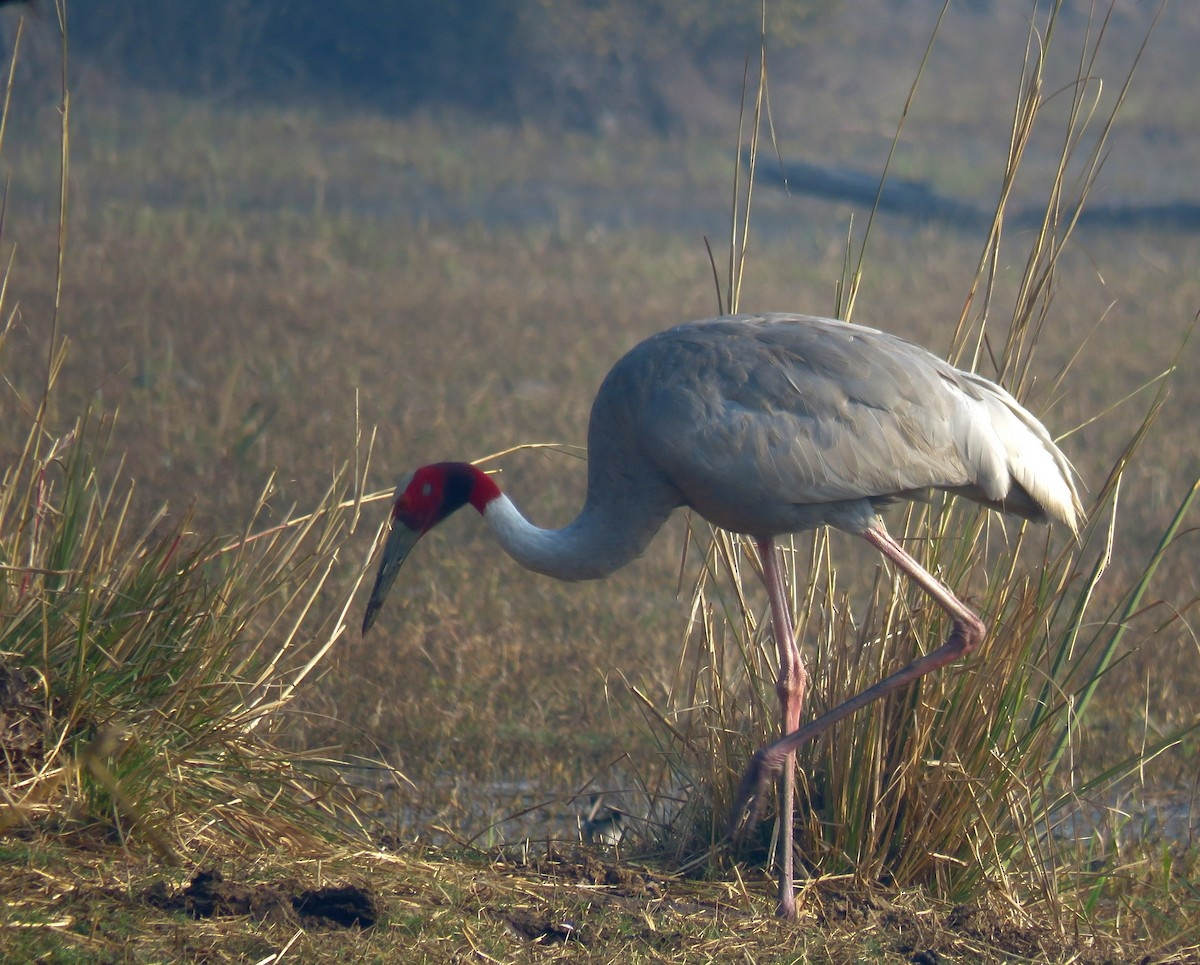crane: (365, 298, 1101, 896)
